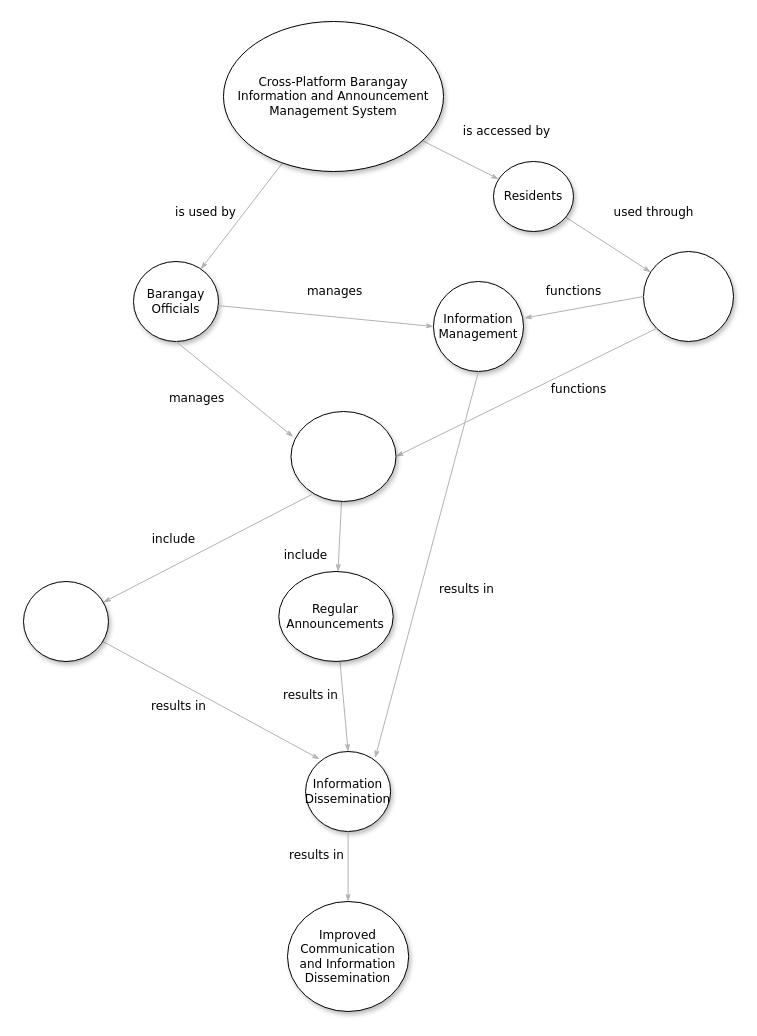
The diagram is 757 pixels wide and 1036 high, and some of its shapes have lost their labels. The shapes that lost their labels are listed below. From the top down, each one's centre as x and y in pixels, then its label:
point (689, 297): Web/Mobile Application
point (344, 457): Announcement Management
point (66, 622): Emergency Announcements
